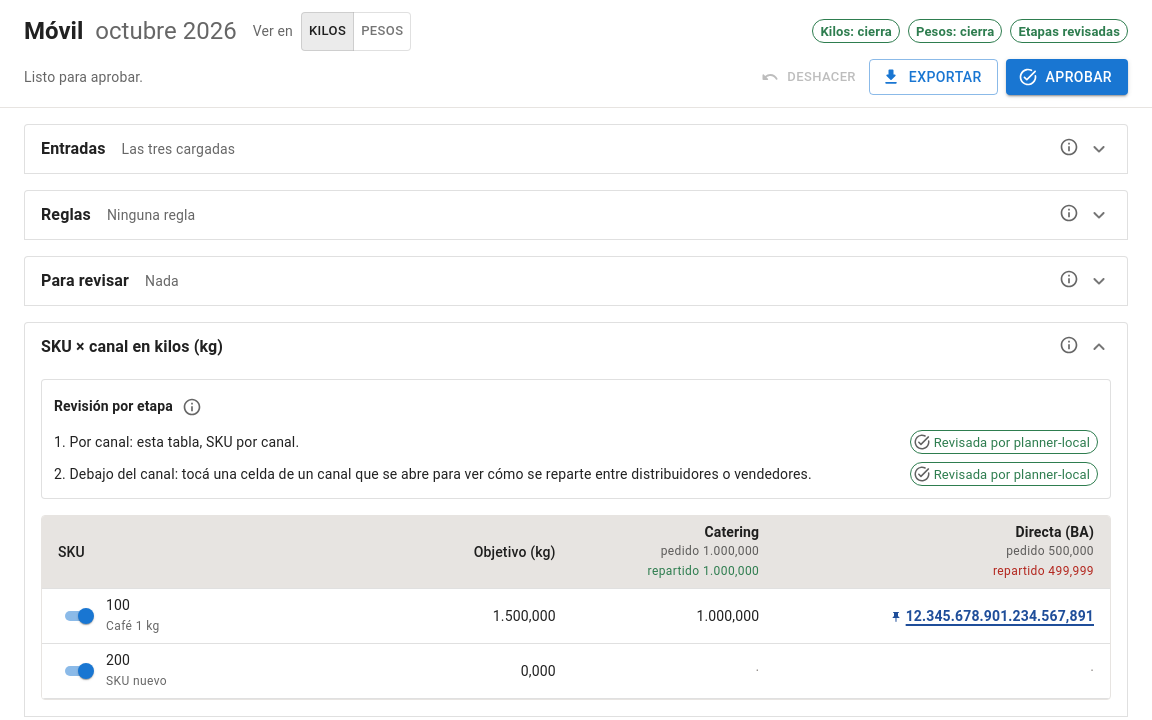
Test: MovilPage › un recálculo de rutina no muestra aviso: el cambio ya se ve en la tabla
Click the checkbox named "Apagar 200": (86, 671) [78, 663, 94, 679]
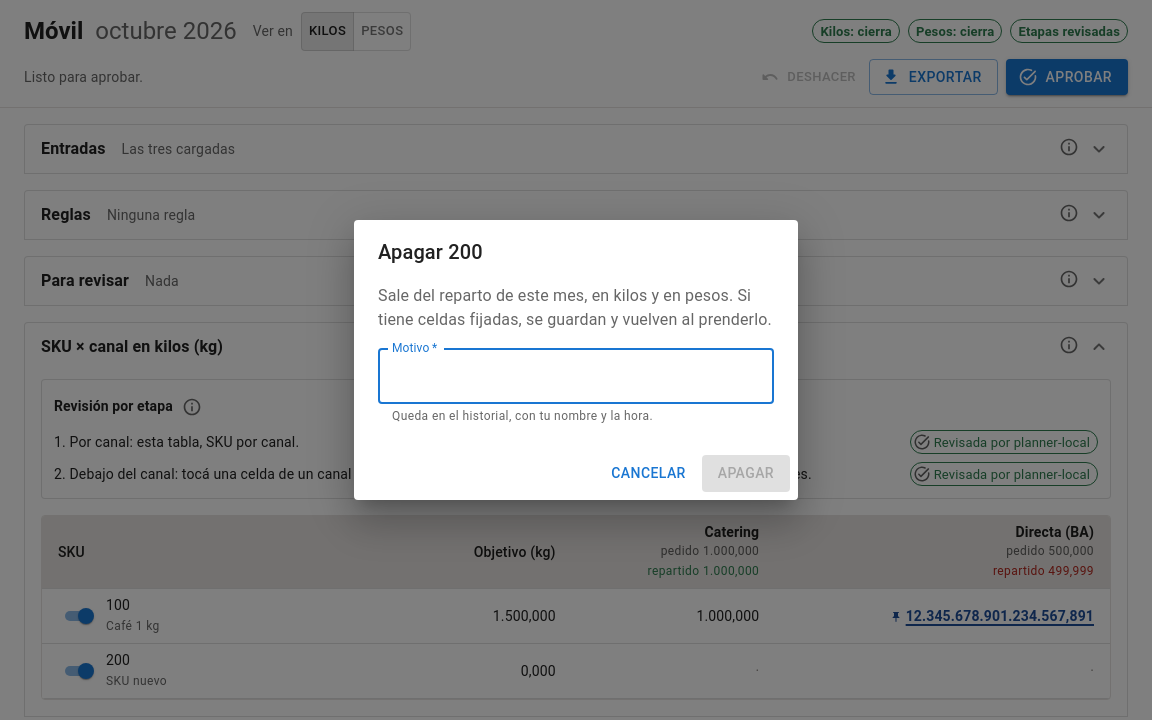
In the field labelled "Motivo *": (576, 376) [378, 348, 774, 404], type "x"
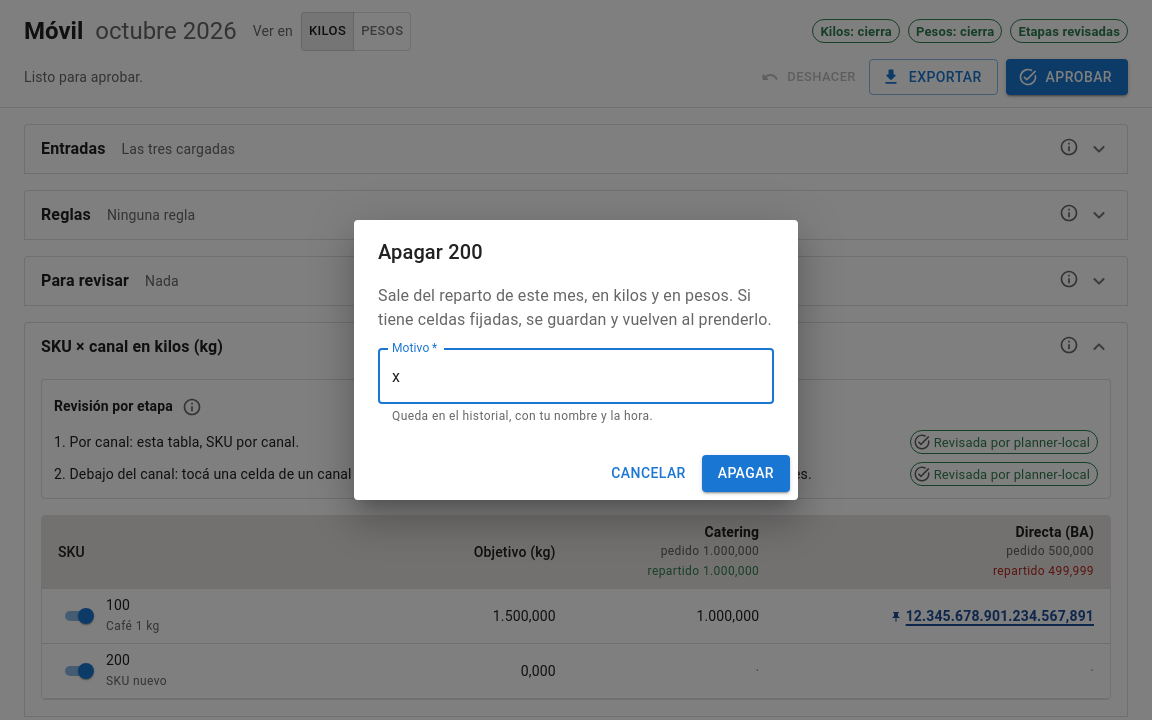
Click the button "Apagar": (746, 473) [702, 455, 790, 492]
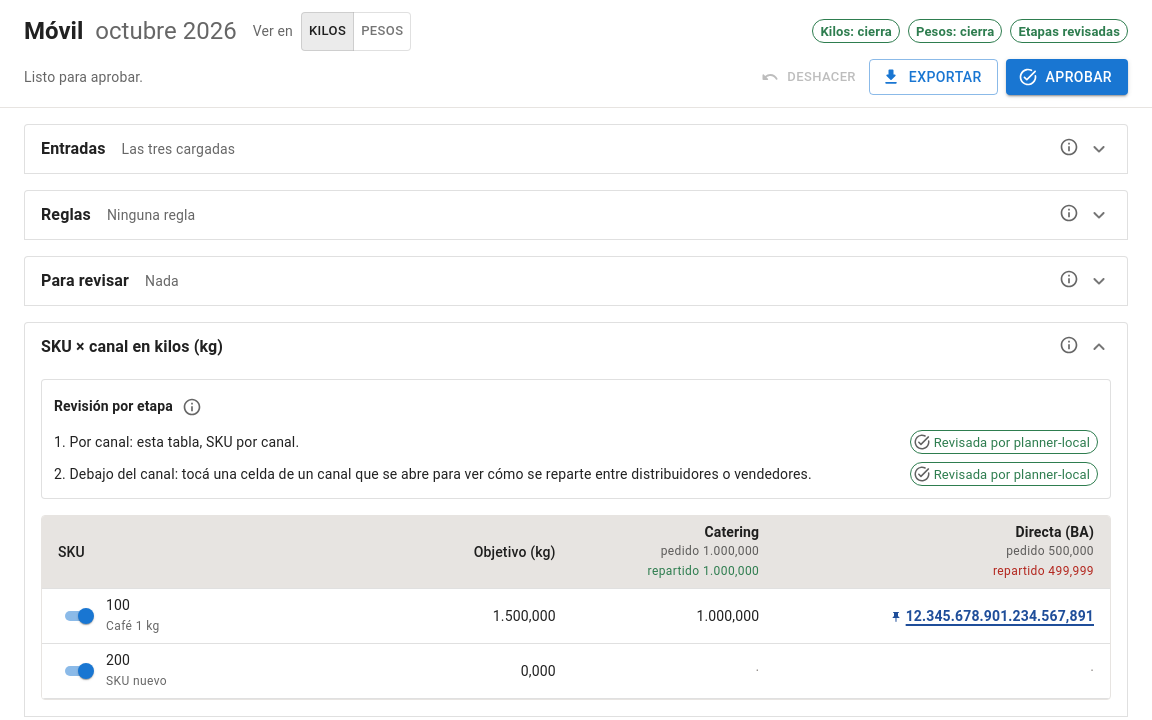
Now the dialog is gone
